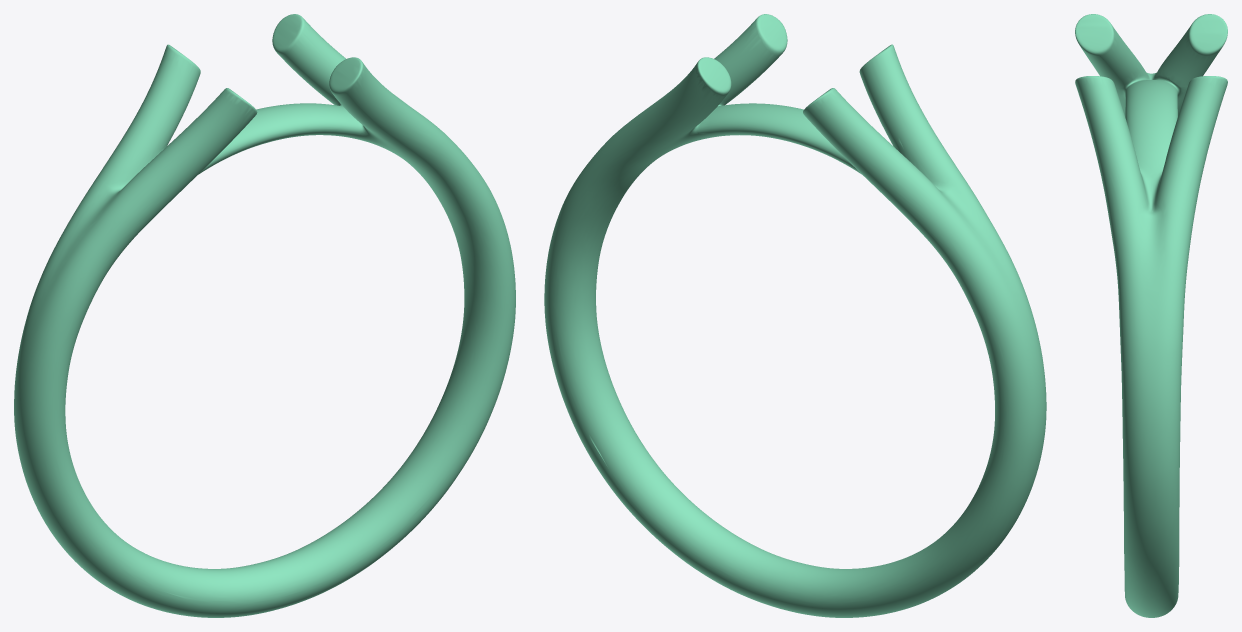
3 renders of one model, left to right at view 1: azimuth 30°, elevation 25°; view 2: azimuth 150°, elevation 25°; view 3: azimuth 270°, elevation 25°, orthographic.
Visible parts, largest first — view 1: Metal02; view 2: Metal02; view 3: Metal02.
Boxes of the visible parts, x1,y1,x2,y2 form: Metal02: (14,14,515,617); Metal02: (544,14,1046,617); Metal02: (1075,14,1227,617).
Bounding box in the file's own units: 20.87 × 22.51 × 5.71.
